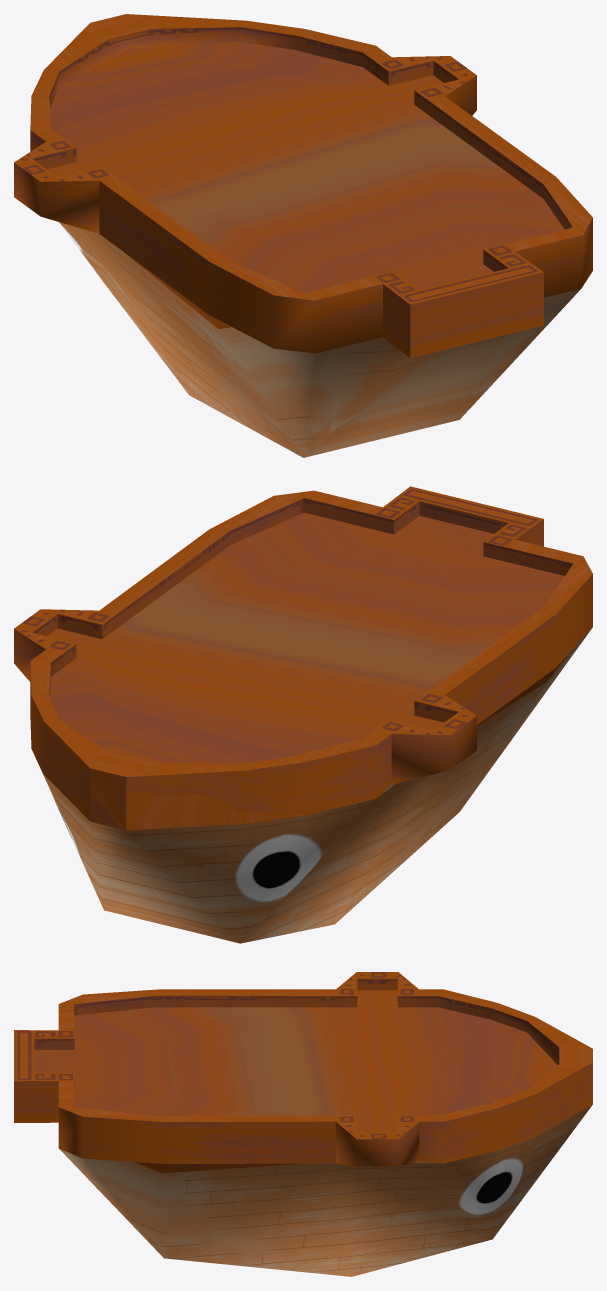
File: navire_itbox.fbx
3 views of the same model, one above another, from view 1: azimuth 30°, elevation 25°; view 2: azimuth 150°, elevation 25°; view 3: azimuth 270°, elevation 25° (orthographic). The views are drawn at different scales.
Parts seen in each view (by area): view 1: hitbox1; view 2: hitbox1; view 3: hitbox1.
Part boxes in pixels (bbox=[...]): hitbox1: bbox=[14, 14, 592, 457]; hitbox1: bbox=[14, 486, 592, 943]; hitbox1: bbox=[14, 972, 592, 1276].
Bounding box in the file's own units: 97.89 × 52.82 × 143.
